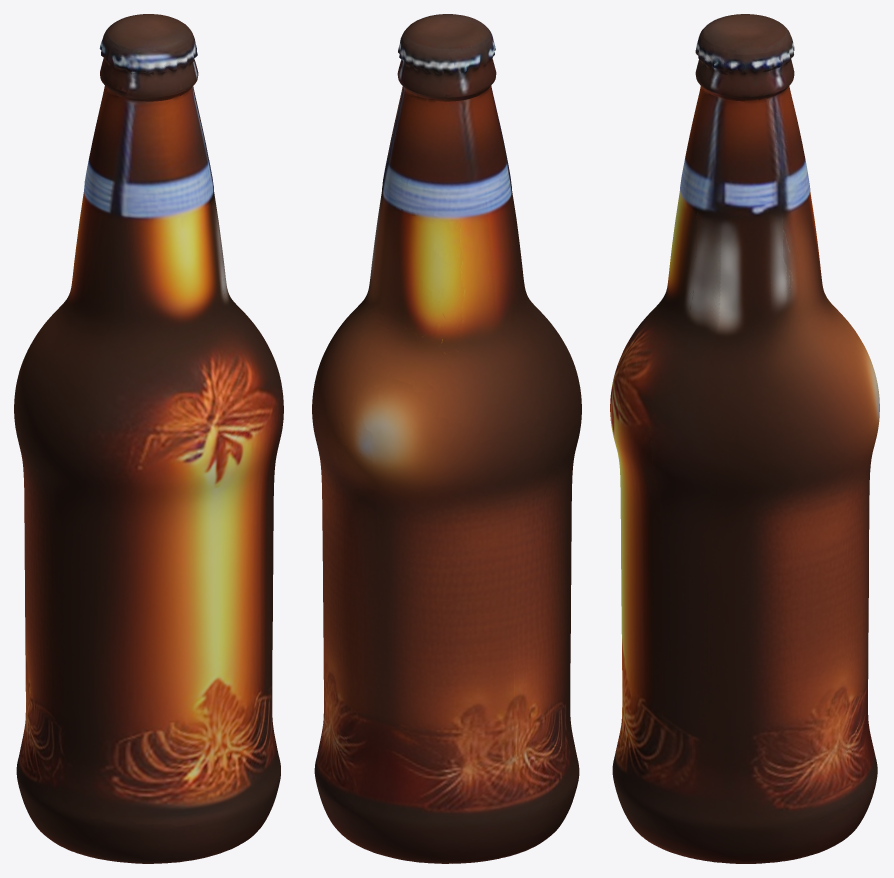
Rendered from bottle.fbx.
3 views of the same model, side by side, from view 1: azimuth 30°, elevation 25°; view 2: azimuth 150°, elevation 25°; view 3: azimuth 270°, elevation 25° (orthographic).
Parts seen in each view (by area): view 1: tmpxstsix1c.ply; view 2: tmpxstsix1c.ply; view 3: tmpxstsix1c.ply.
Part boxes in pixels (bbox=[...]): tmpxstsix1c.ply: bbox=[14, 14, 283, 863]; tmpxstsix1c.ply: bbox=[312, 14, 581, 863]; tmpxstsix1c.ply: bbox=[610, 14, 879, 863].
Size of the model in its own units: 61.73 by 199 by 61.63.
1 material, 1 textured.
